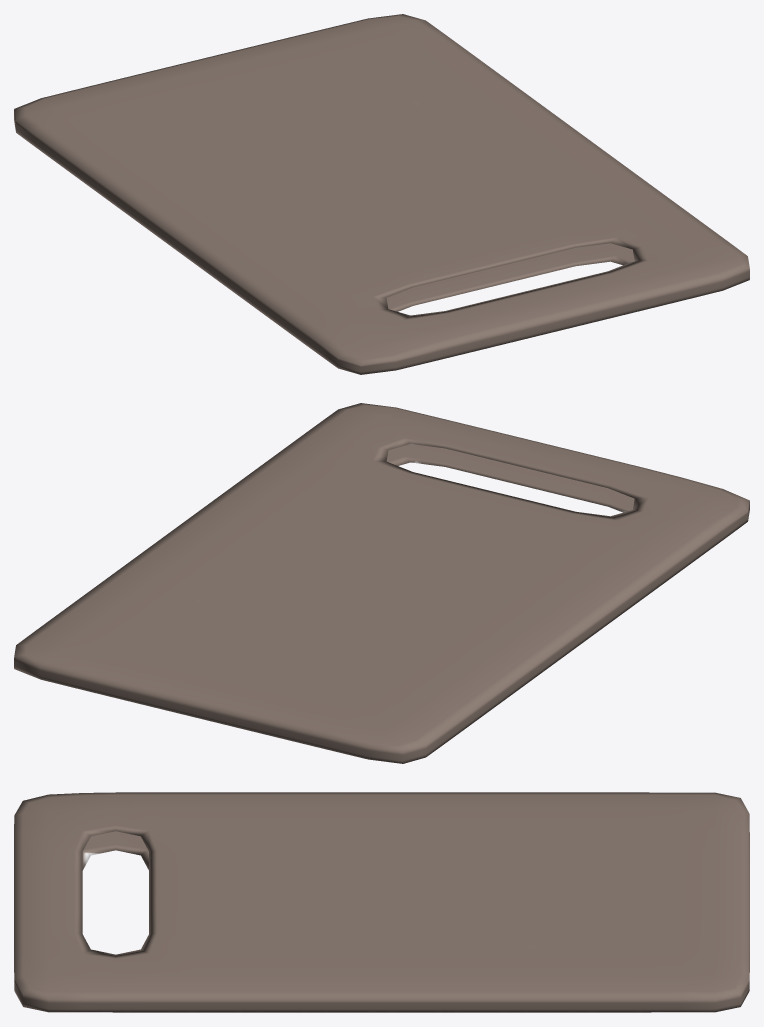
File: Cuttingboard.fbx
3 renders of one model, top to bottom at view 1: azimuth 30°, elevation 25°; view 2: azimuth 150°, elevation 25°; view 3: azimuth 270°, elevation 25°, orthographic. The views are drawn at different scales.
Visible parts, largest first — view 1: Box001; view 2: Box001; view 3: Box001.
Part boxes in pixels (bbox=[...]): Box001: bbox=[14, 14, 749, 374]; Box001: bbox=[14, 403, 749, 763]; Box001: bbox=[14, 792, 749, 1012].
Bounding box in the file's own units: 30.66 × 1.45 × 45.98.
